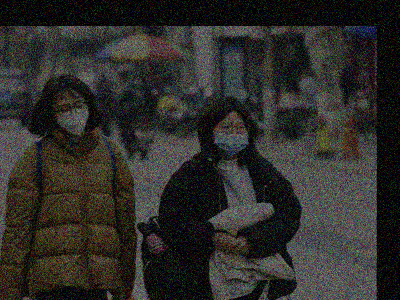with_mask: (212, 119, 250, 159), (52, 97, 89, 135)
